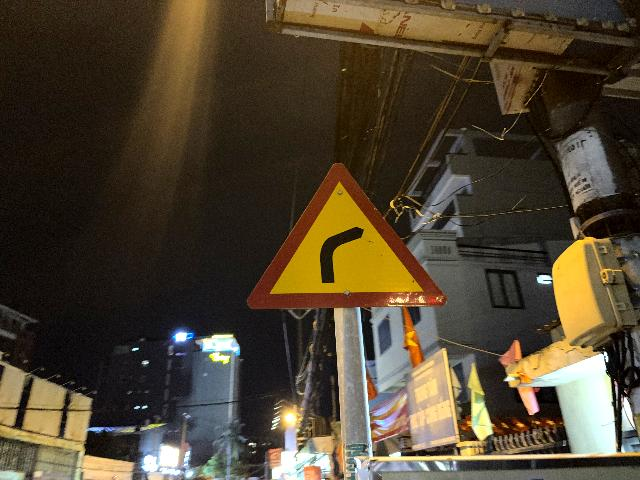cho-ngoat-nguy-hiem-ben-phai: (248, 162, 448, 309)
